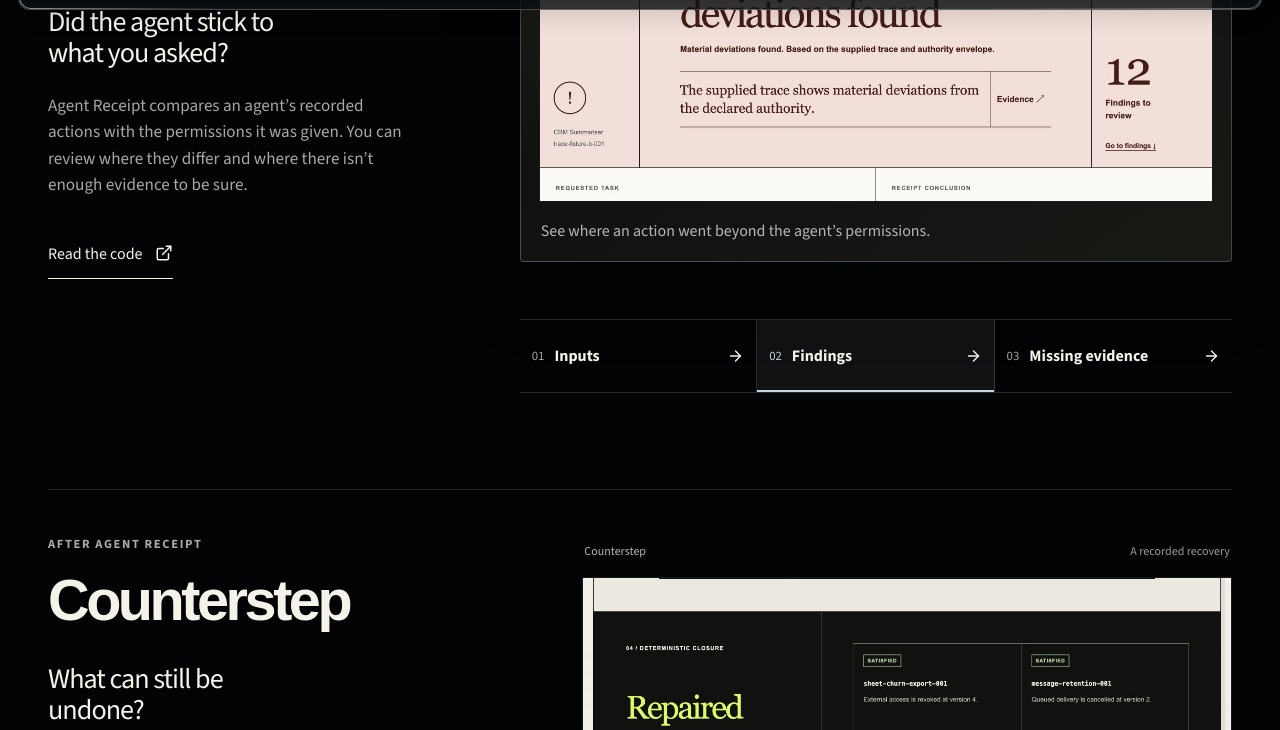
Test: portfolio homepage › lets visitors inspect the Agent Receipt states
(page scrolled)
Click the button "03 Missing evidence".
click(1113, 356)  # box [995,320,1232,392]
(page scrolled)
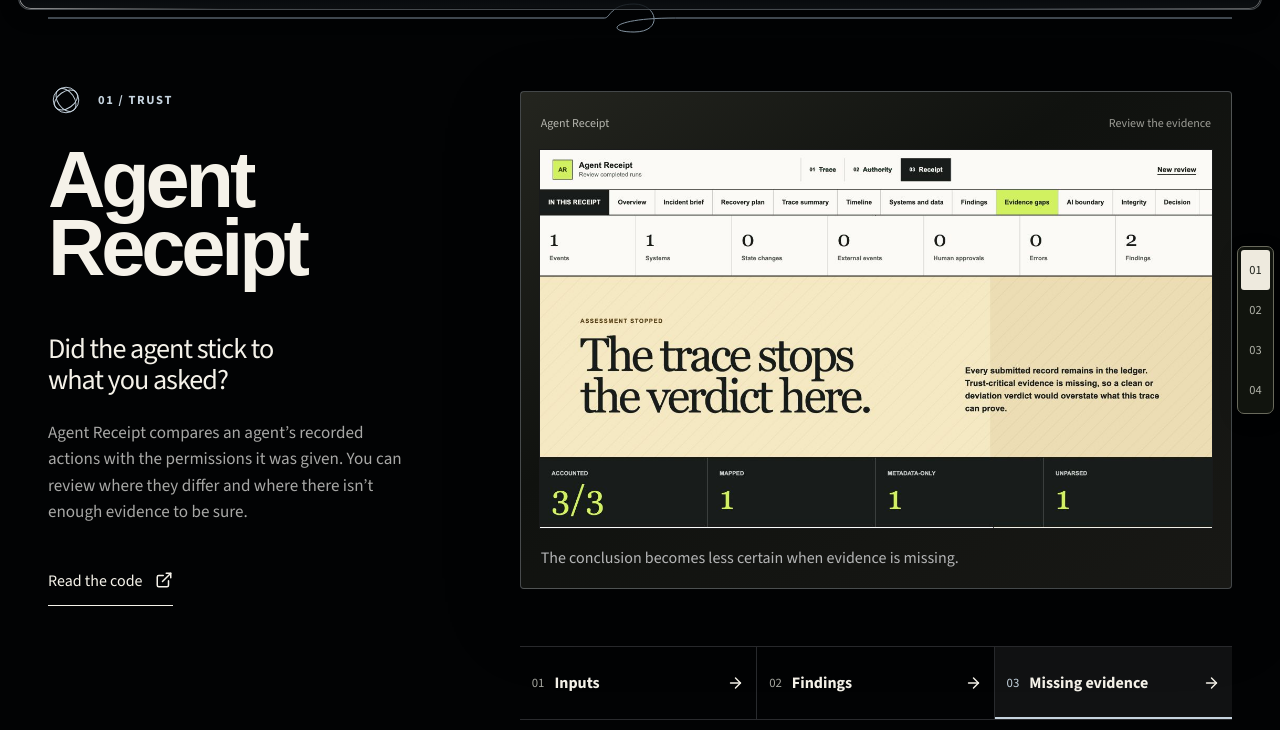
Check: the picture with alt text "conclusion as uncertain" is shown, box [539,149,1213,529]
